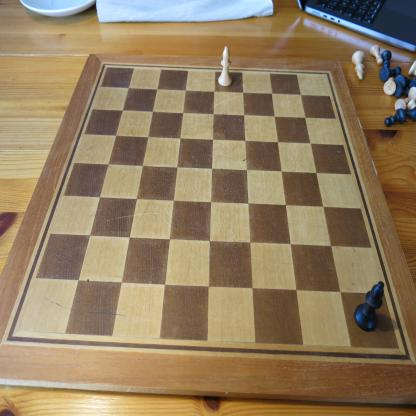black-bishop: (353, 280, 385, 334)
white-bishop: (217, 44, 234, 87)
